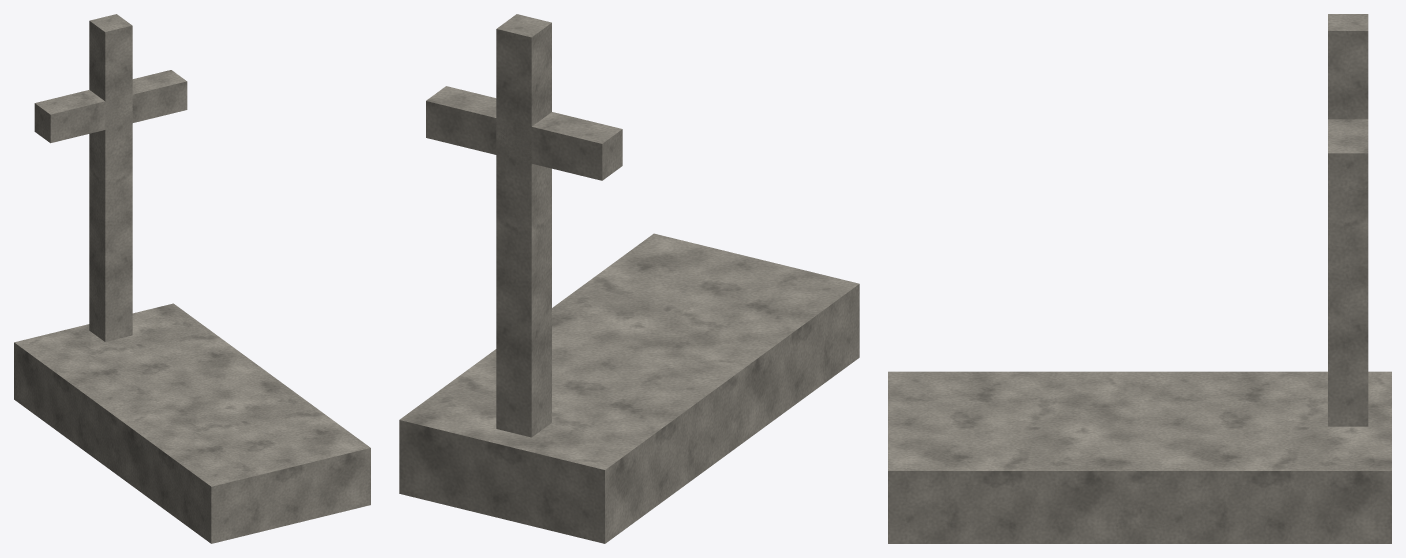
The model's file is cruz_tumba.obj.
The picture shows the model from 3 angles, left to right: view 1: azimuth 30°, elevation 25°; view 2: azimuth 150°, elevation 25°; view 3: azimuth 270°, elevation 25°; orthographic projection. The views are drawn at different scales.
Parts seen in each view (by area): view 1: Cube, Cube.001, Cube.002; view 2: Cube, Cube.001, Cube.002; view 3: Cube, Cube.001, Cube.002.
Part boxes in pixels (x1=…): Cube: x1=14, y1=303, x2=370, y2=543; Cube.001: x1=89, y1=14, x2=132, y2=341; Cube.002: x1=34, y1=70, x2=187, y2=143; Cube: x1=399, y1=233, x2=859, y2=543; Cube.001: x1=496, y1=14, x2=551, y2=437; Cube.002: x1=426, y1=86, x2=622, y2=180; Cube: x1=888, y1=371, x2=1391, y2=543; Cube.001: x1=1328, y1=14, x2=1368, y2=426; Cube.002: x1=1328, y1=119, x2=1368, y2=189.
Size of the model in its own units: 0.7 by 1.55 by 1.5.
Materials: 1 (1 with a texture image).
